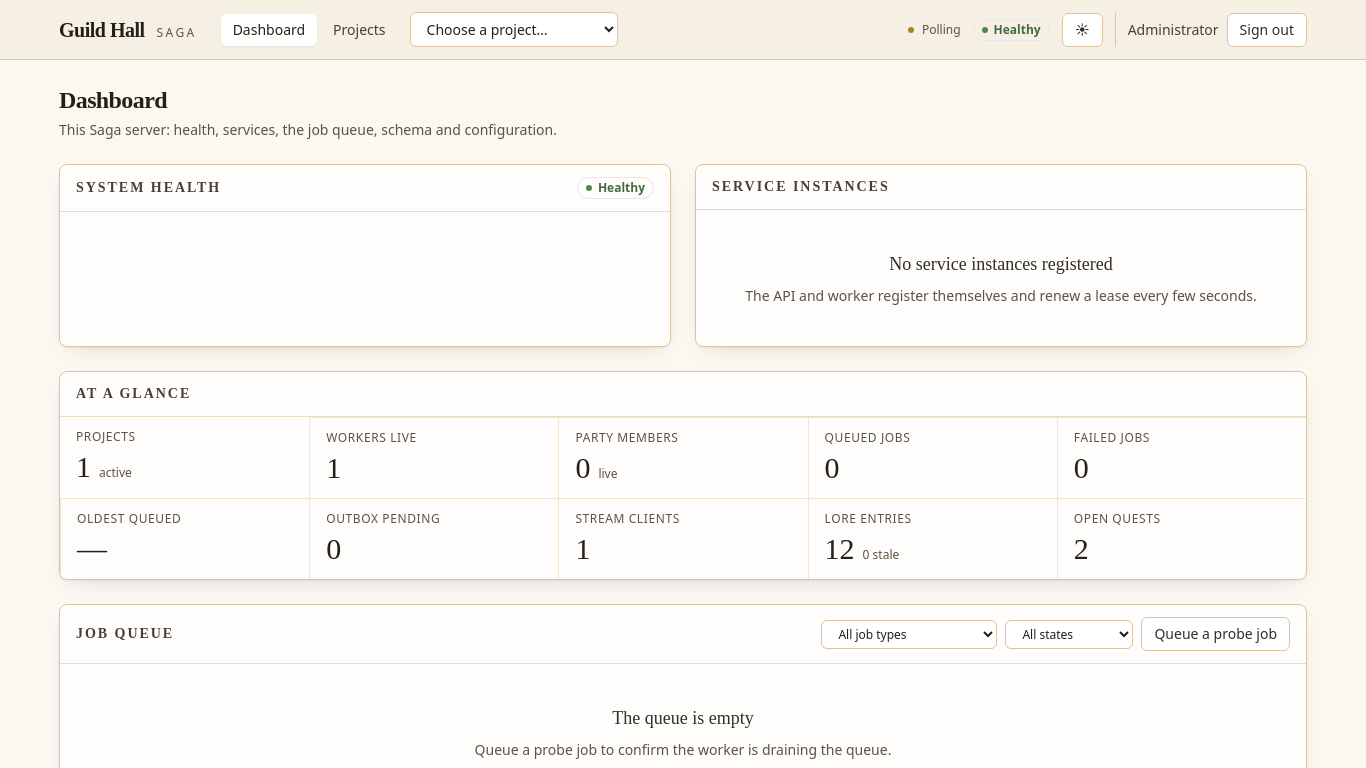
it: the Guild Hall route table › opens the project chosen in the picker
Select "ERP Backoffice" in the dropdown named "Project" in the row of "Guild Hall" at (514, 30), box x1=410 y1=12 x2=618 y2=47
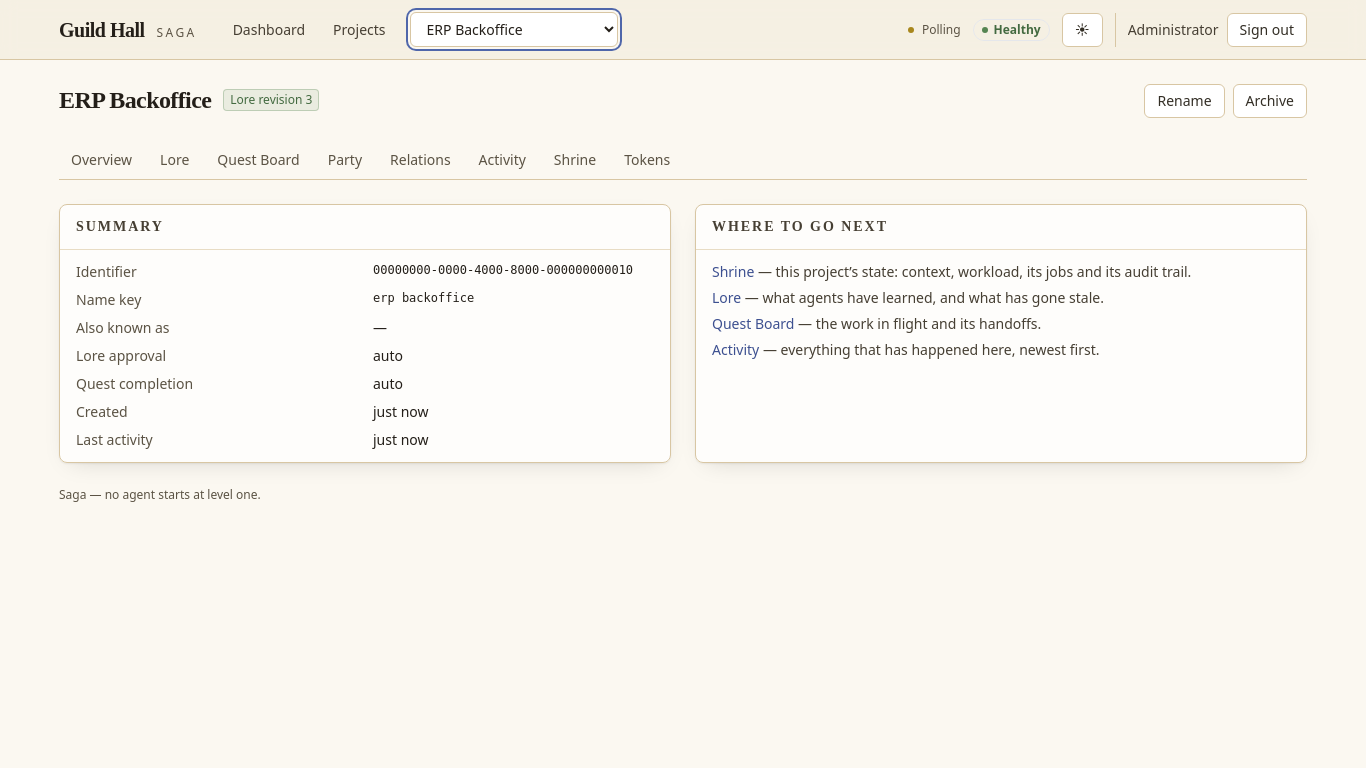
Expected: the navigation bar named "Project sections" is shown, x1=59 y1=142 x2=1307 y2=180
